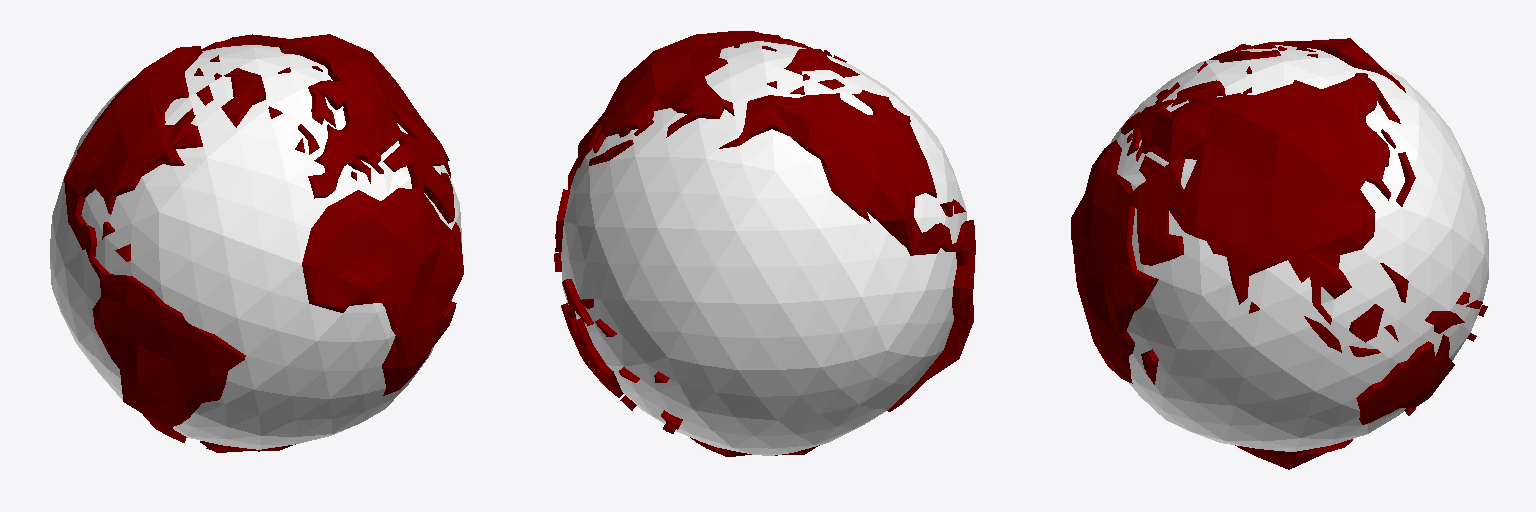
The model's file is earth.obj.
The picture shows the model from 3 angles: view 1: azimuth 30°, elevation 25°; view 2: azimuth 150°, elevation 25°; view 3: azimuth 270°, elevation 25°; orthographic projection.
Parts seen in each view (by area): view 1: earth4; view 2: earth4; view 3: earth4.
Part boxes in pixels (left/top/right/bottom): earth4: left=50, top=34, right=463, bottom=452; earth4: left=554, top=31, right=975, bottom=456; earth4: left=1071, top=38, right=1488, bottom=469.
Bounding box in the file's own units: 0.1733 × 0.1794 × 0.1729.